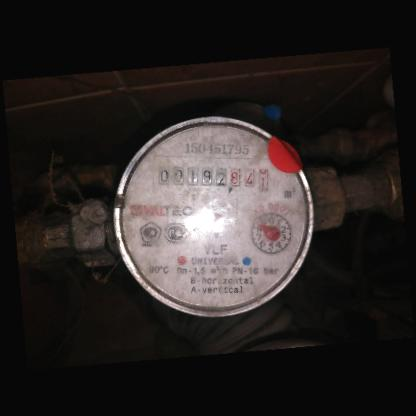digital_screen: (151, 153, 230, 192)
